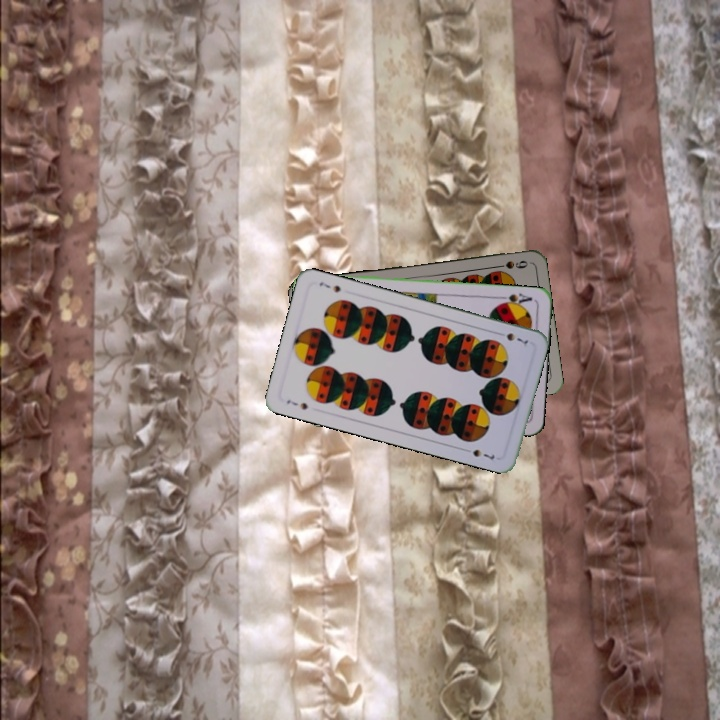S7: (493, 328, 531, 346), (282, 396, 310, 412)
S9: (490, 256, 531, 271)
SA: (495, 289, 534, 309)
